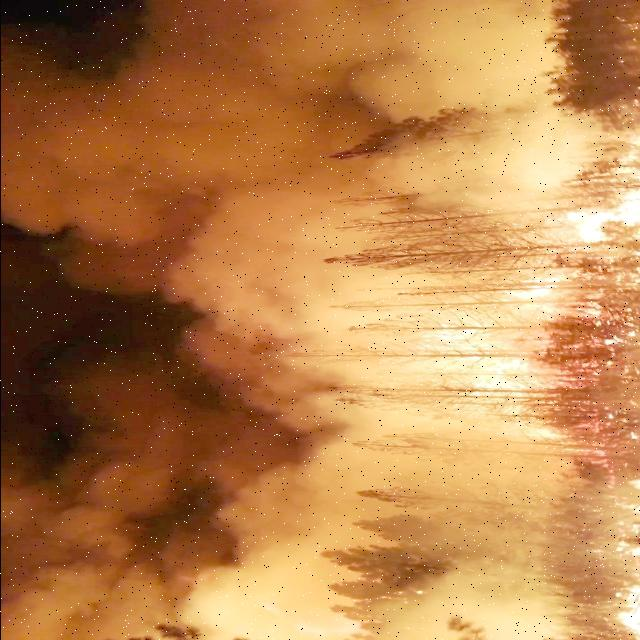api: (488, 125, 640, 424)
asap: (154, 8, 449, 505), (5, 508, 575, 632), (8, 58, 154, 232)
